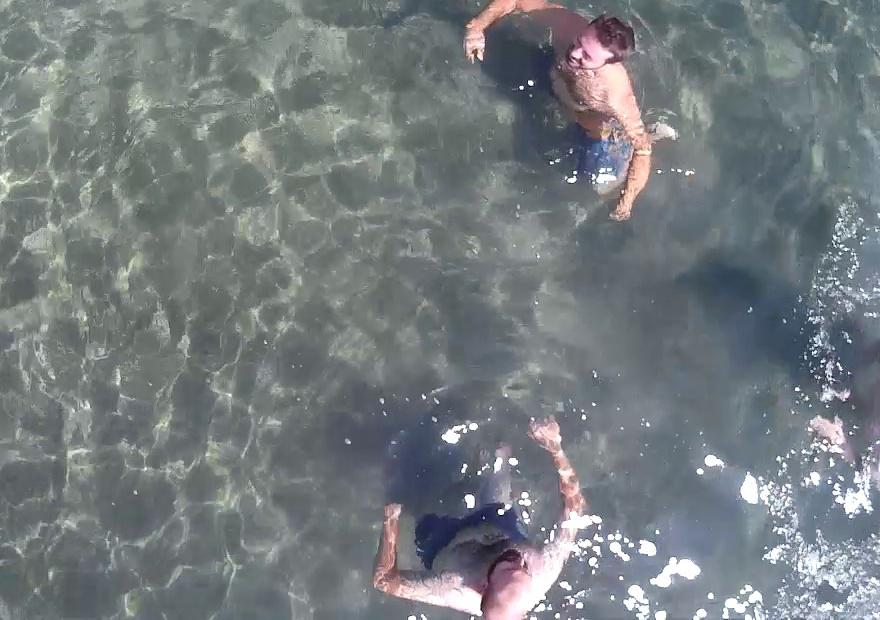human: (478, 0, 679, 224), (0, 1, 1, 1)
